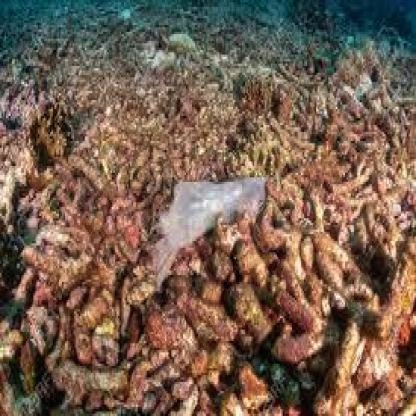pbag: (138, 175, 272, 293)
